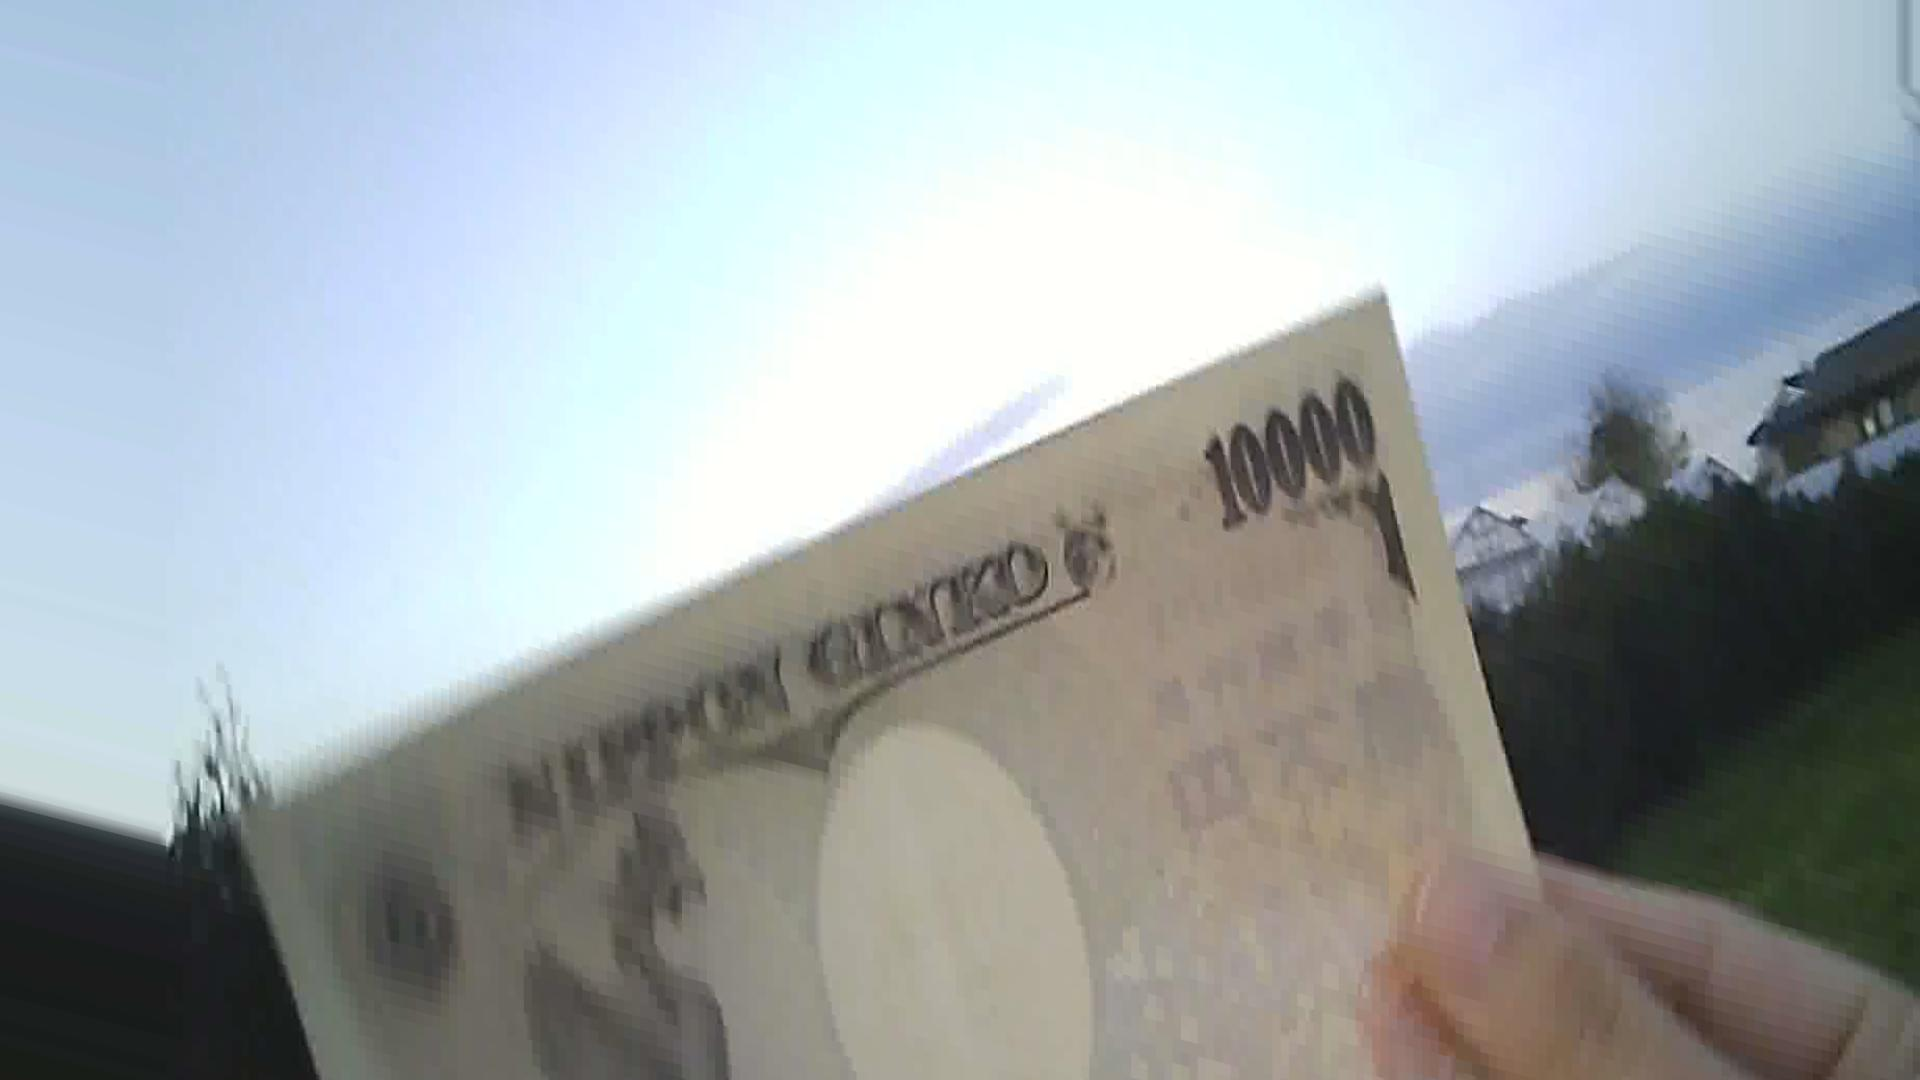10,000 Yen: (247, 233, 1528, 1048)
